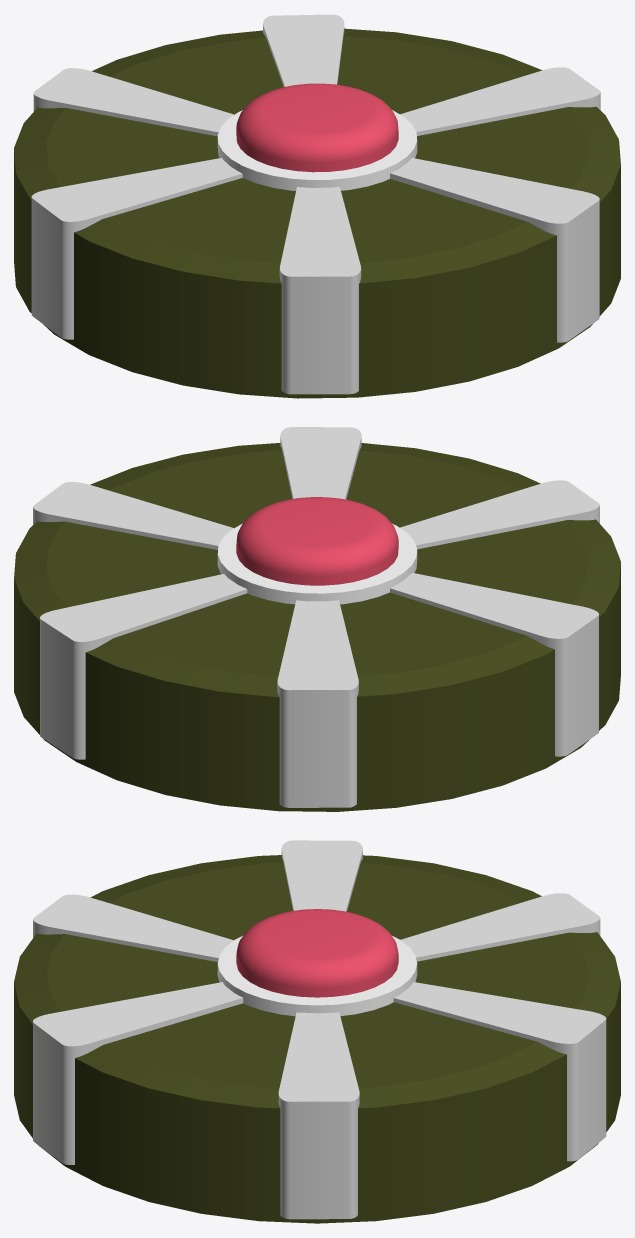
The model's file is Landmine3.fbx.
The picture shows the model from 3 angles, top to bottom: view 1: azimuth 30°, elevation 25°; view 2: azimuth 150°, elevation 25°; view 3: azimuth 270°, elevation 25°; orthographic projection.
Visible parts, largest first — view 1: Cylinder, Cube.005, Cylinder.002, Cube.001, Cube.006, Cube.007, Cube.002, Cube.003, Cylinder.001, Cube.004; view 2: Cylinder, Cube.007, Cube.004, Cylinder.002, Cube.001, Cube.002, Cube.005, Cylinder.001, Cube.006; view 3: Cylinder, Cube.002, Cylinder.002, Cube.004, Cube.006, Cube.005, Cube.007, Cube.003, Cylinder.001, Cube.001.
Part boxes in pixels (<box>): Cylinder: <box>14,28,620,398</box>; Cube.005: <box>279,186,361,394</box>; Cylinder.002: <box>236,83,398,172</box>; Cube.001: <box>31,158,242,339</box>; Cube.006: <box>390,158,599,326</box>; Cube.007: <box>33,68,233,136</box>; Cube.002: <box>400,67,600,135</box>; Cube.003: <box>390,174,599,342</box>; Cylinder.001: <box>217,110,417,190</box>; Cube.004: <box>263,14,344,86</box>; Cylinder: <box>14,443,620,811</box>; Cube.007: <box>277,600,358,807</box>; Cube.004: <box>40,574,247,759</box>; Cylinder.002: <box>236,497,398,585</box>; Cube.001: <box>390,572,598,756</box>; Cube.002: <box>33,482,233,549</box>; Cube.005: <box>400,480,599,549</box>; Cylinder.001: <box>217,523,417,604</box>; Cube.006: <box>280,427,361,499</box>; Cylinder: <box>14,855,620,1223</box>; Cube.002: <box>278,1012,359,1219</box>; Cylinder.002: <box>236,909,398,997</box>; Cube.004: <box>393,982,606,1161</box>; Cube.006: <box>33,982,243,1149</box>; Cube.005: <box>33,894,233,961</box>; Cube.007: <box>400,893,600,961</box>; Cube.003: <box>33,999,243,1164</box>; Cylinder.001: <box>217,936,417,1016</box>; Cube.001: <box>281,840,362,911</box>.
Size of the model in its own units: 935 by 267 by 917.
